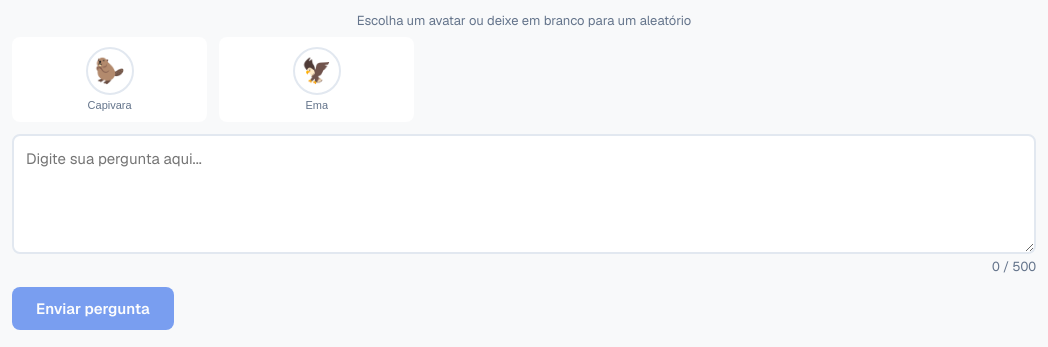
Test: QuestionForm › should update character counter as user types
In the text box named "Texto da pergunta": (524, 194) [12,134,1036,254], type "Hello world"
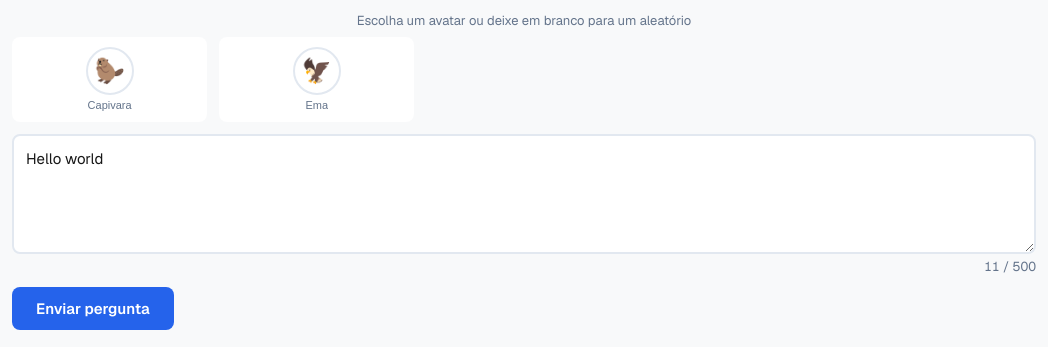
Expected: the text "11 / 500" is shown, [984,258,1036,275]
